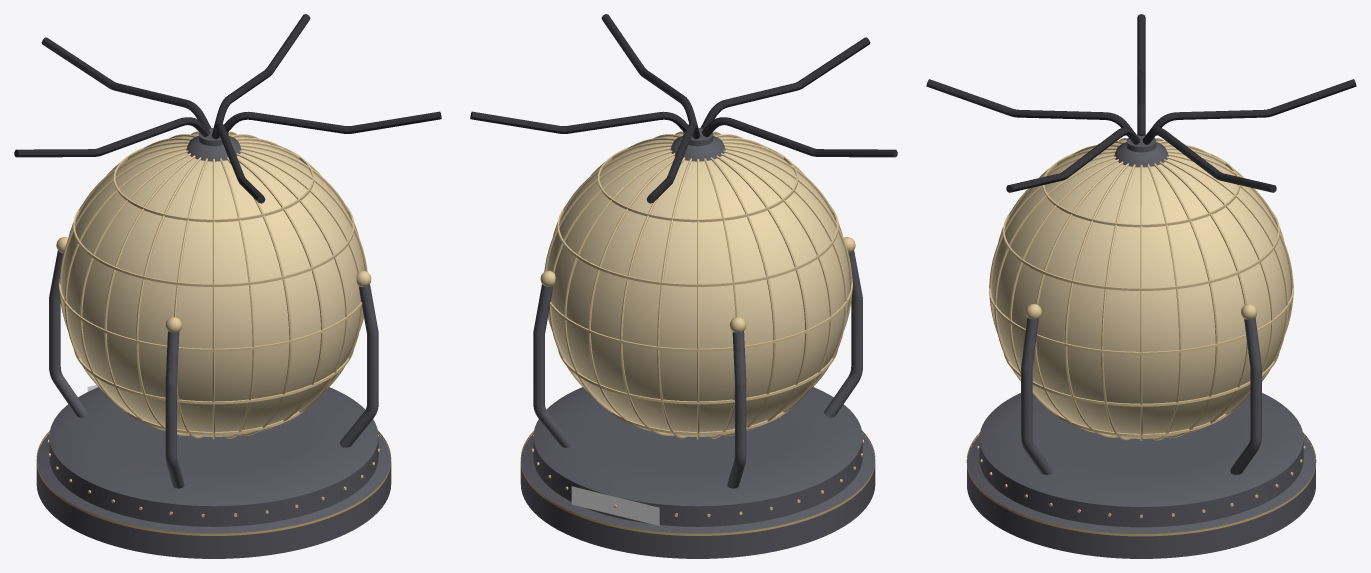
The model's file is CoreMain_Core.fbx.
3 renders of one model, left to right at view 1: azimuth 30°, elevation 25°; view 2: azimuth 150°, elevation 25°; view 3: azimuth 270°, elevation 25°, orthographic.
Visible parts, largest first — view 1: CoreMain_Core; view 2: CoreMain_Core; view 3: CoreMain_Core.
Boxes of the visible parts, <box> form: CoreMain_Core: <box>14,14,441,558</box>; CoreMain_Core: <box>470,14,897,558</box>; CoreMain_Core: <box>926,14,1356,558</box>.
Size of the model in its own units: 4.92 by 5 by 5.17.
